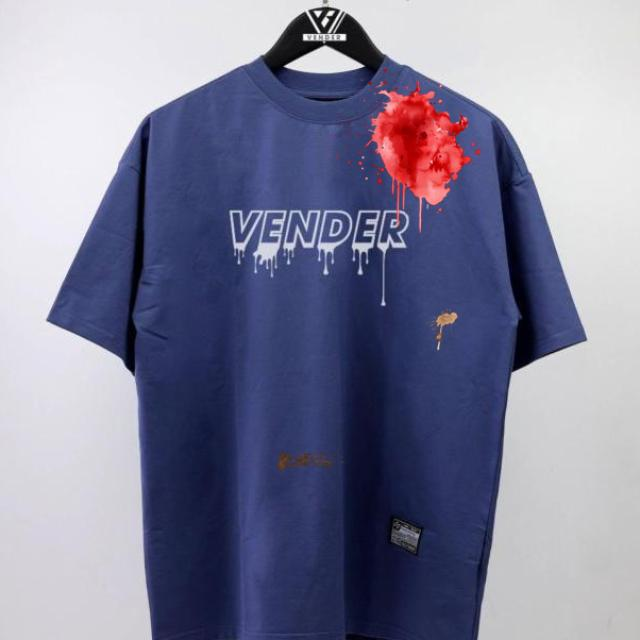stain: (366, 82, 472, 219), (264, 439, 353, 484), (420, 299, 466, 357)
